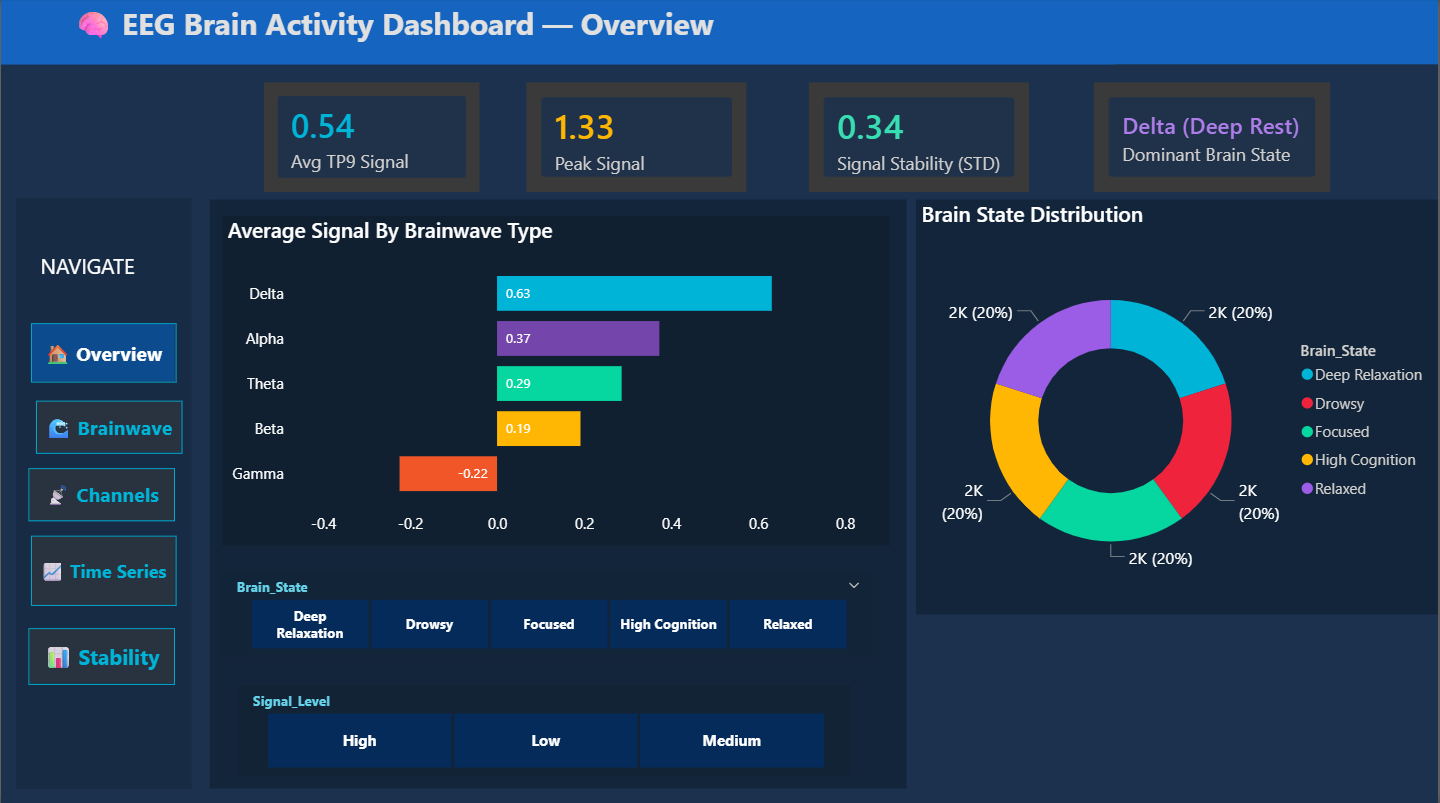

This screenshot's page, from the dashboard's own definition file:
{"tool":"powerbi","page":{"name":"OVERVIEW","canvas":[1280,720],"ordinal":0},"visuals":[{"type":"cardVisual","fields":{"Data":["Table.Avg_TP9"]},"box":[229.2,71.2,202.7,107.4],"z":0},{"type":"shape","box":[186.4,180.9,620.5,524.5],"z":500},{"type":"shape","box":[13.7,178.7,156.4,526.3],"z":750},{"type":"cardVisual","fields":{"Data":["Table.Max_Signal"]},"box":[463.3,71.2,206.3,107.4],"z":1000},{"type":"cardVisual","fields":{"Data":["Table.STD_Signal"]},"box":[714.2,71.2,206.3,107.4],"z":2000},{"type":"cardVisual","fields":{"Data":["Intelligence.Dominant_Wave"]},"box":[968.8,71.2,220.8,107.4],"z":3000},{"type":"slicer","fields":{"Values":["EEG_Data.Signal_Level"]},"box":[211.1,612.9,545.3,79.6],"z":4000},{"type":"shape","box":[0,0,1280.3,59.9],"z":5000},{"type":"textbox","box":[0,0,992,59.8],"z":6000},{"type":"clusteredBarChart","title":"Average Signal By Brainwave Type","fields":{"Category":["EEG_Data.Brainwave"],"Y":["Avg(EEG_Data.Average_Signal)"]},"box":[197.6,194.8,594.1,293.6],"z":7000},{"type":"donutChart","title":"Brain State Distribution","fields":{"Y":["EEG_Data.Row_Count"],"Category":["EEG_Data.Brain_State"]},"box":[814.8,180.3,465.3,369.6],"z":8000},{"type":"slicer","fields":{"Values":["EEG_Data.Brain_State"]},"box":[197.6,512,580.2,75.1],"z":9000},{"type":"actionButton","box":[31,360,130.3,47.2],"z":12000},{"type":"actionButton","box":[25,420.2,130.8,47.3],"z":13000},{"type":"actionButton","box":[26.4,480,129.4,62.6],"z":14000},{"type":"actionButton","box":[25,562.1,130.8,50.1],"z":15000},{"type":"actionButton","box":[26.4,290.8,129.4,52.9],"z":16000},{"type":"textbox","box":[30.6,221.2,109.9,44.5],"z":17501}]}

Visuals, with their boxes in screenshot pixels (x1, y1, x2, y2), scaled from the page's 1280x720 canvas onto the 1440x803 screenshot:
cardVisual - Table.Avg_TP9: Rect(258, 79, 486, 199)
shape: Rect(210, 202, 908, 787)
shape: Rect(15, 199, 191, 786)
cardVisual - Table.Max_Signal: Rect(521, 79, 753, 199)
cardVisual - Table.STD_Signal: Rect(803, 79, 1036, 199)
cardVisual - Intelligence.Dominant_Wave: Rect(1090, 79, 1338, 199)
slicer - EEG_Data.Signal_Level: Rect(237, 684, 851, 772)
shape: Rect(0, 0, 1439, 67)
textbox: Rect(0, 0, 1116, 67)
"Average Signal By Brainwave Type" clusteredBarChart: Rect(222, 217, 891, 545)
"Brain State Distribution" donutChart: Rect(917, 201, 1439, 613)
slicer - EEG_Data.Brain_State: Rect(222, 571, 875, 655)
actionButton: Rect(35, 402, 181, 454)
actionButton: Rect(28, 469, 175, 521)
actionButton: Rect(30, 535, 175, 605)
actionButton: Rect(28, 627, 175, 683)
actionButton: Rect(30, 324, 175, 383)
textbox: Rect(34, 247, 158, 296)
